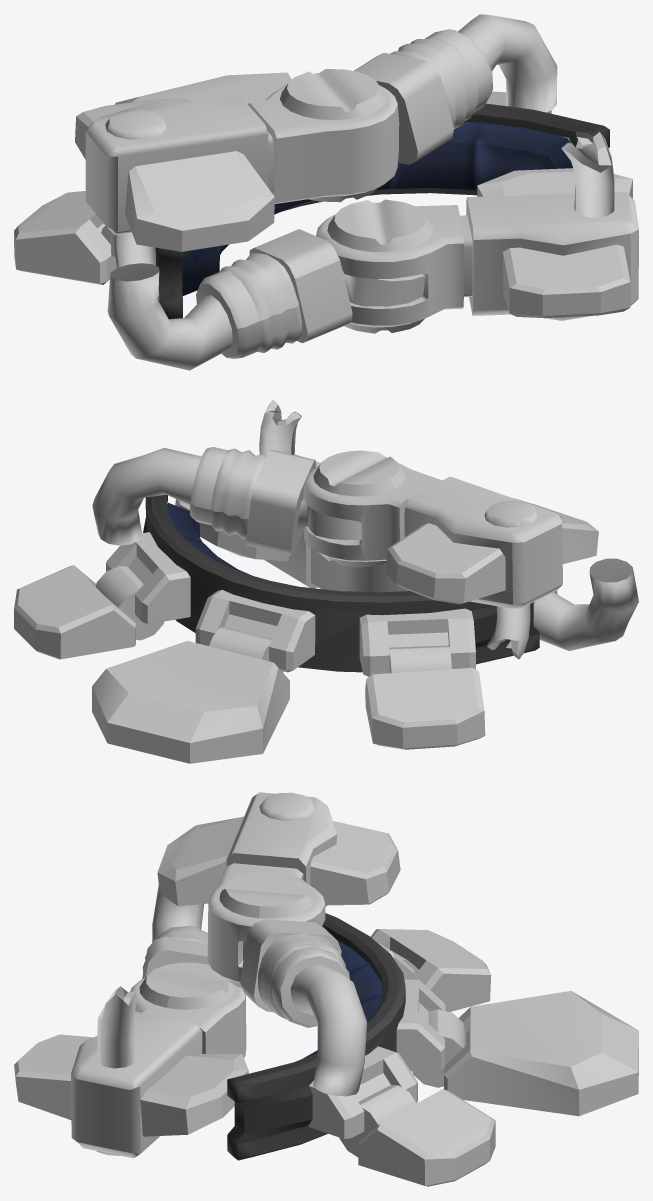
The model's file is exopantsobject.fbx.
The picture shows the model from 3 angles, top to bottom: view 1: azimuth 30°, elevation 25°; view 2: azimuth 150°, elevation 25°; view 3: azimuth 270°, elevation 25°; orthographic projection. The views are drawn at different scales.
Parts seen in each view (by area): view 1: OutfitProps_2FBXASC058obj_robotpart_totebot_leg01.002; view 2: OutfitProps_2FBXASC058obj_robotpart_totebot_leg01.002; view 3: OutfitProps_2FBXASC058obj_robotpart_totebot_leg01.002.
Part boxes in pixels (x1,y1,x2,y2): OutfitProps_2FBXASC058obj_robotpart_totebot_leg01.002: [14, 14, 638, 370]; OutfitProps_2FBXASC058obj_robotpart_totebot_leg01.002: [14, 399, 638, 763]; OutfitProps_2FBXASC058obj_robotpart_totebot_leg01.002: [14, 792, 638, 1186].
Bounding box in the file's own units: 2.27 × 0.7665 × 2.37.
